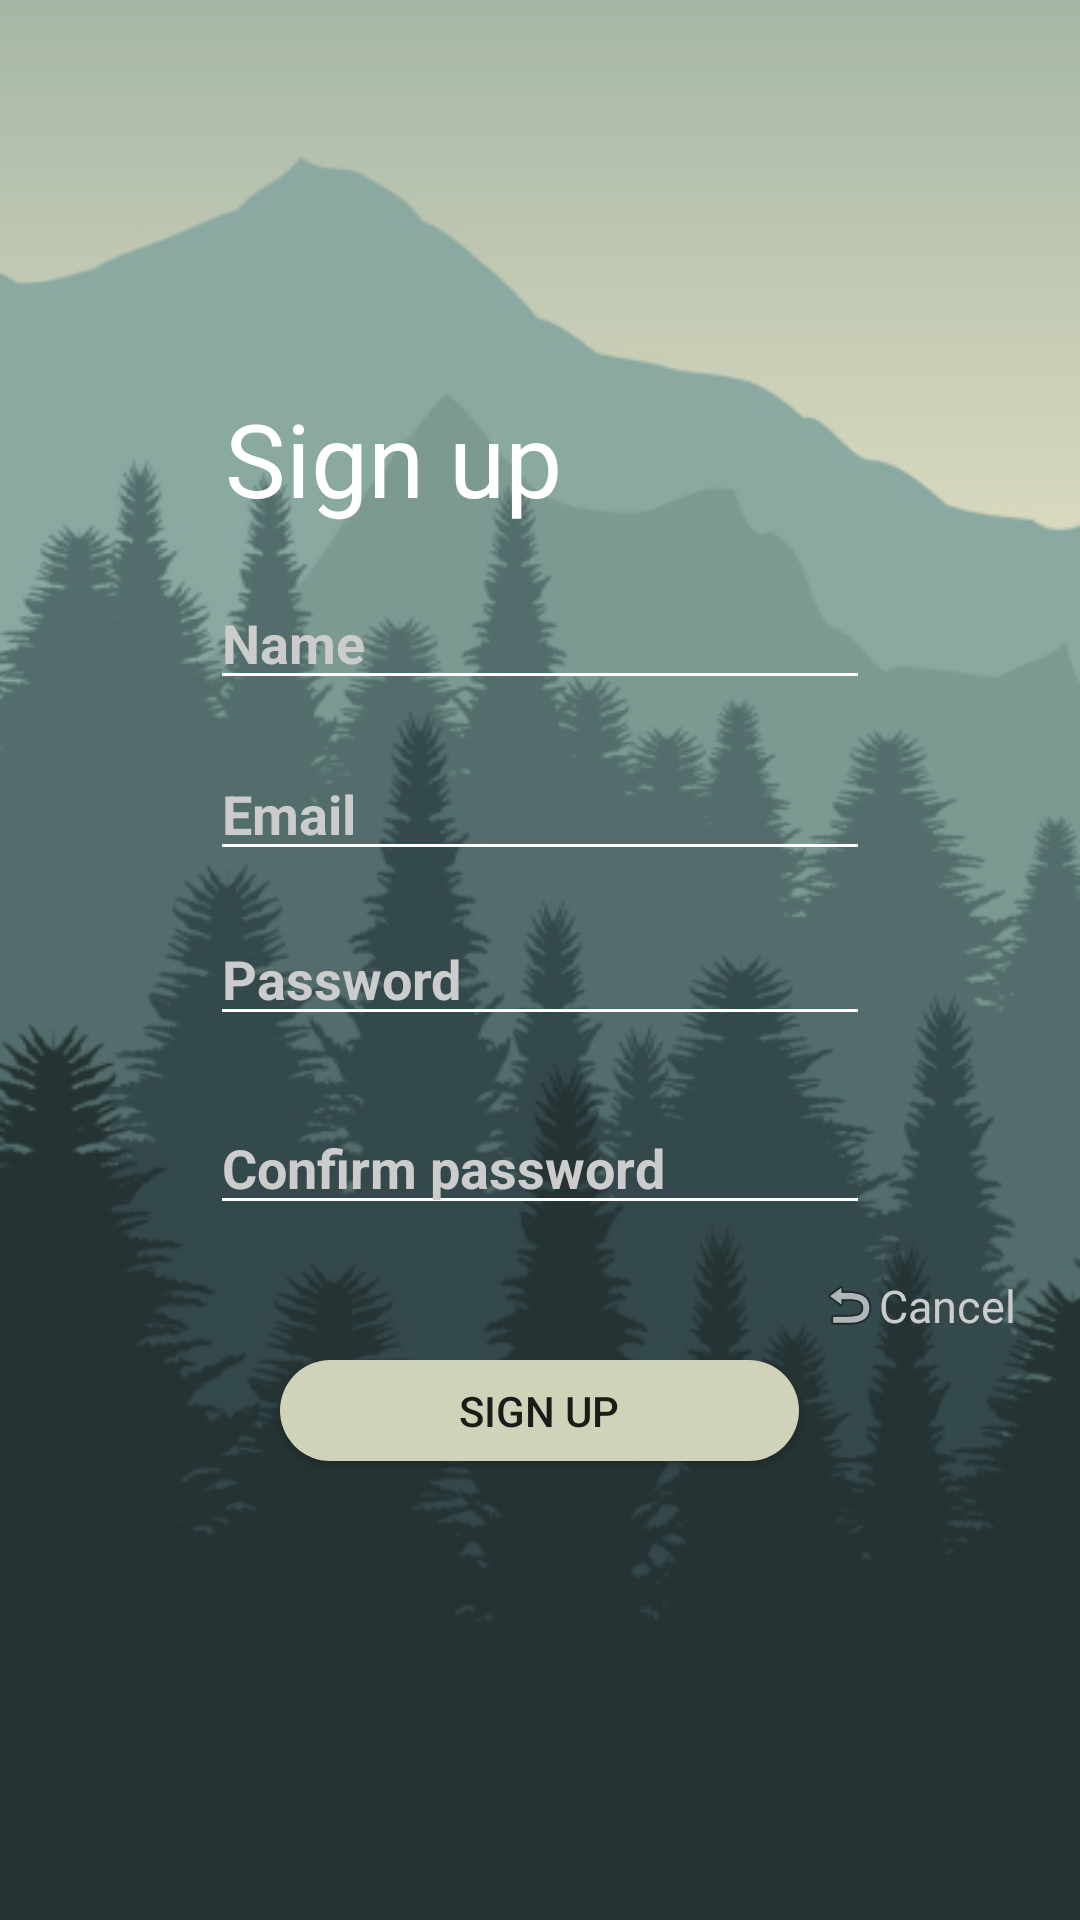

Icons on this 1080px×1920px Android screen, each with the point to tap as (x=x, y=y):
revert: (x=850, y=1305)
